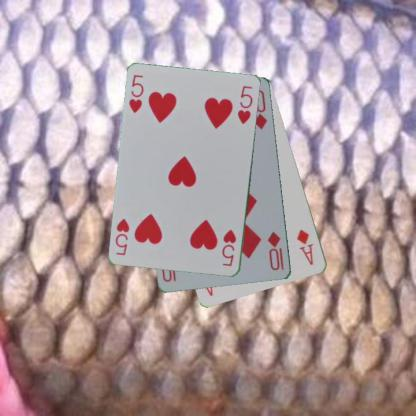10d: (266, 229, 286, 272)
5h: (219, 227, 238, 268), (127, 72, 145, 115)
Ad: (294, 227, 316, 266)
